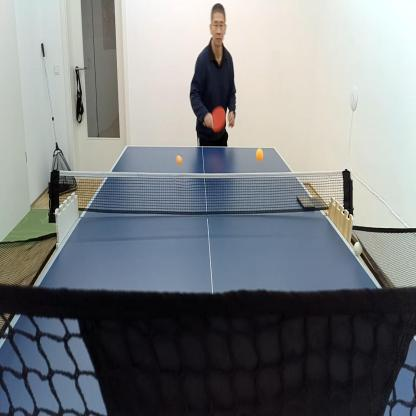Ball: (354, 242, 362, 257), (256, 148, 263, 160), (176, 156, 182, 165)
